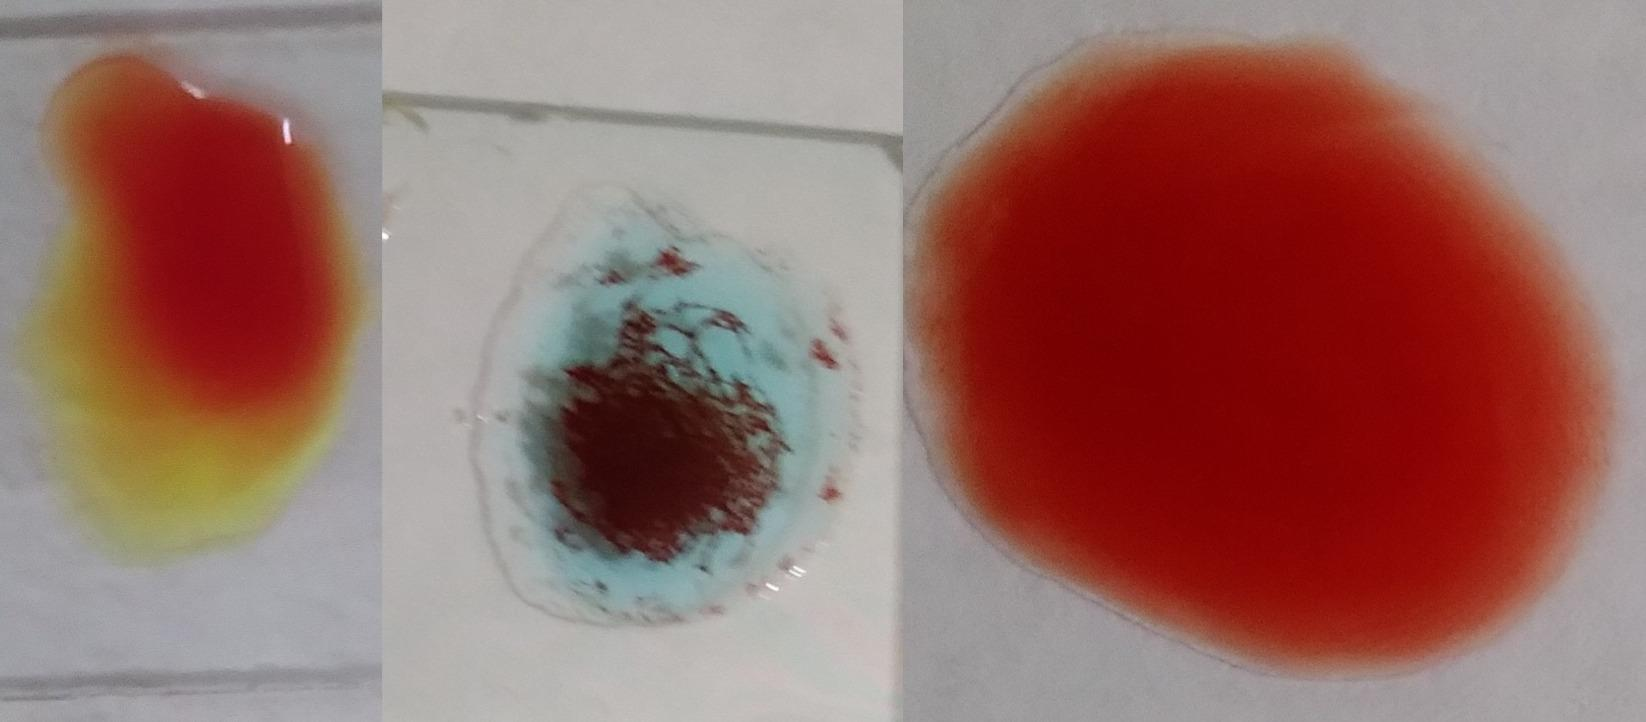A: (473, 190, 825, 638)
